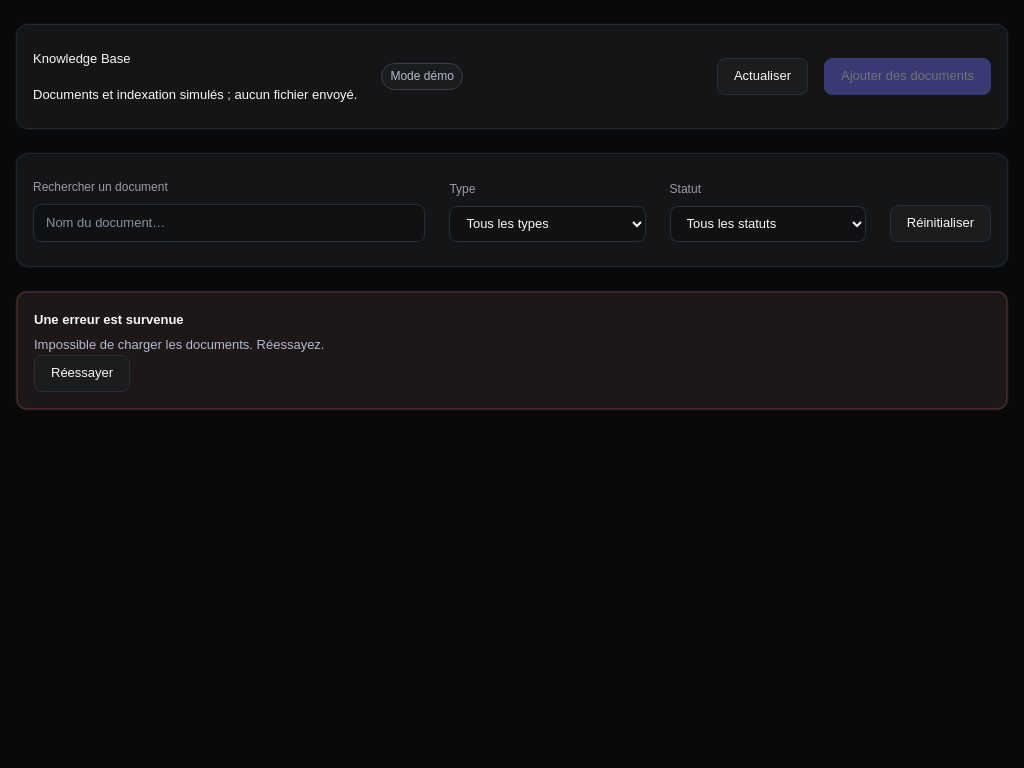
Scenario: mock knowledge base › recovers from a load failure through the existing error state
Expected: the message is shown, [17, 292, 1007, 409]
Click the button "Réessayer".
click(82, 374)  # box [34, 355, 130, 392]
Wait 250 ms
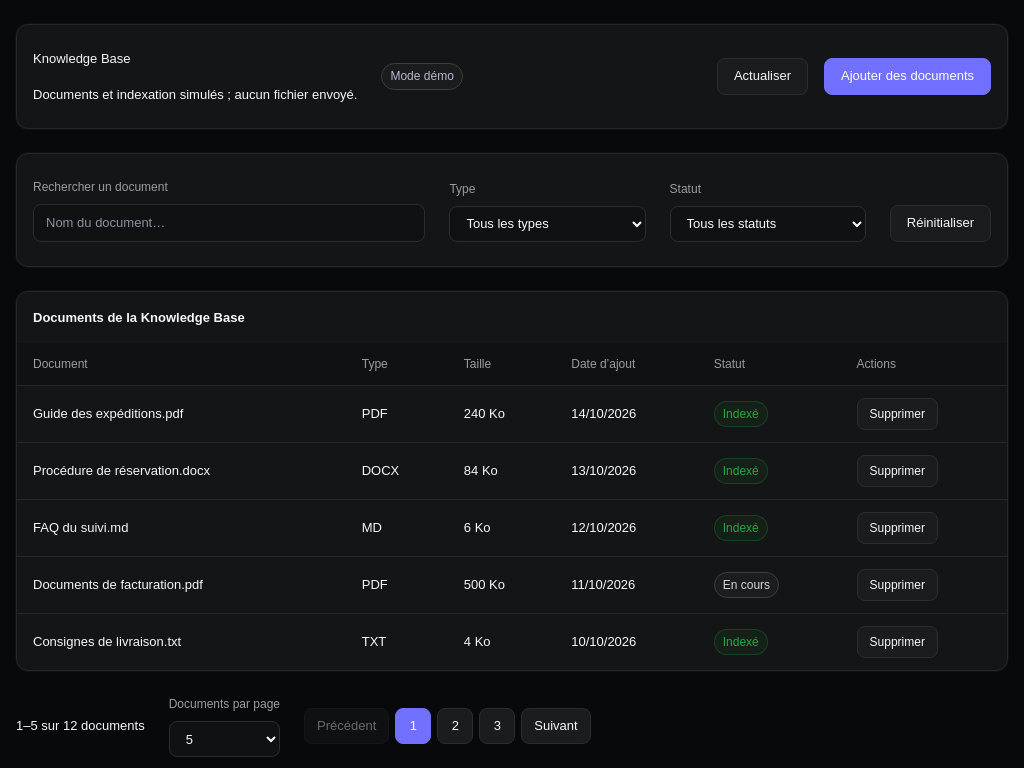
Now the message is gone
Now the text "Guide des expéditions.pdf" is shown, box [33, 406, 183, 421]
